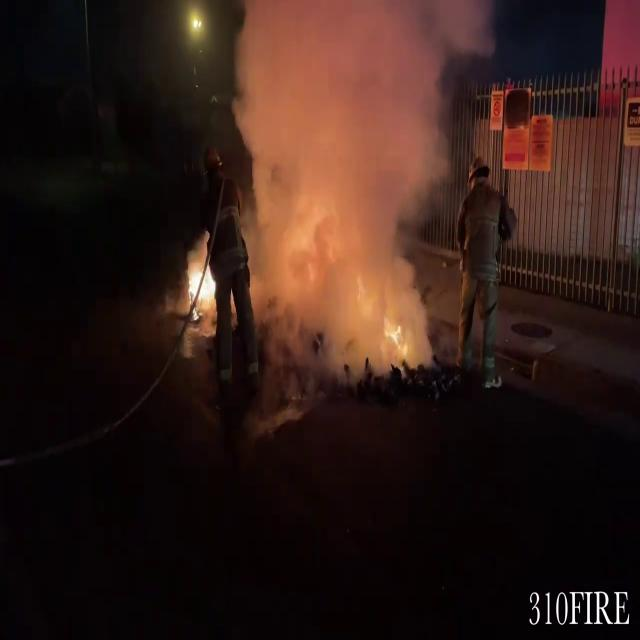Fire: (182, 236, 220, 322)
Smoke: (230, 1, 472, 360)
